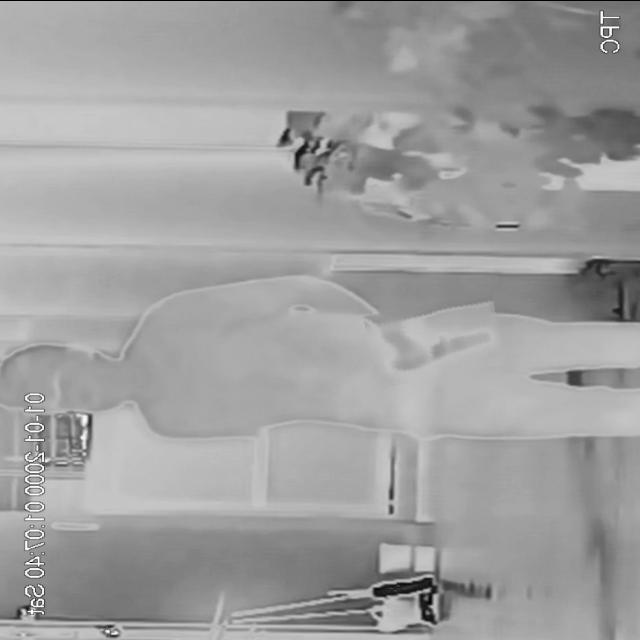Weapon: (367, 297, 502, 383)
